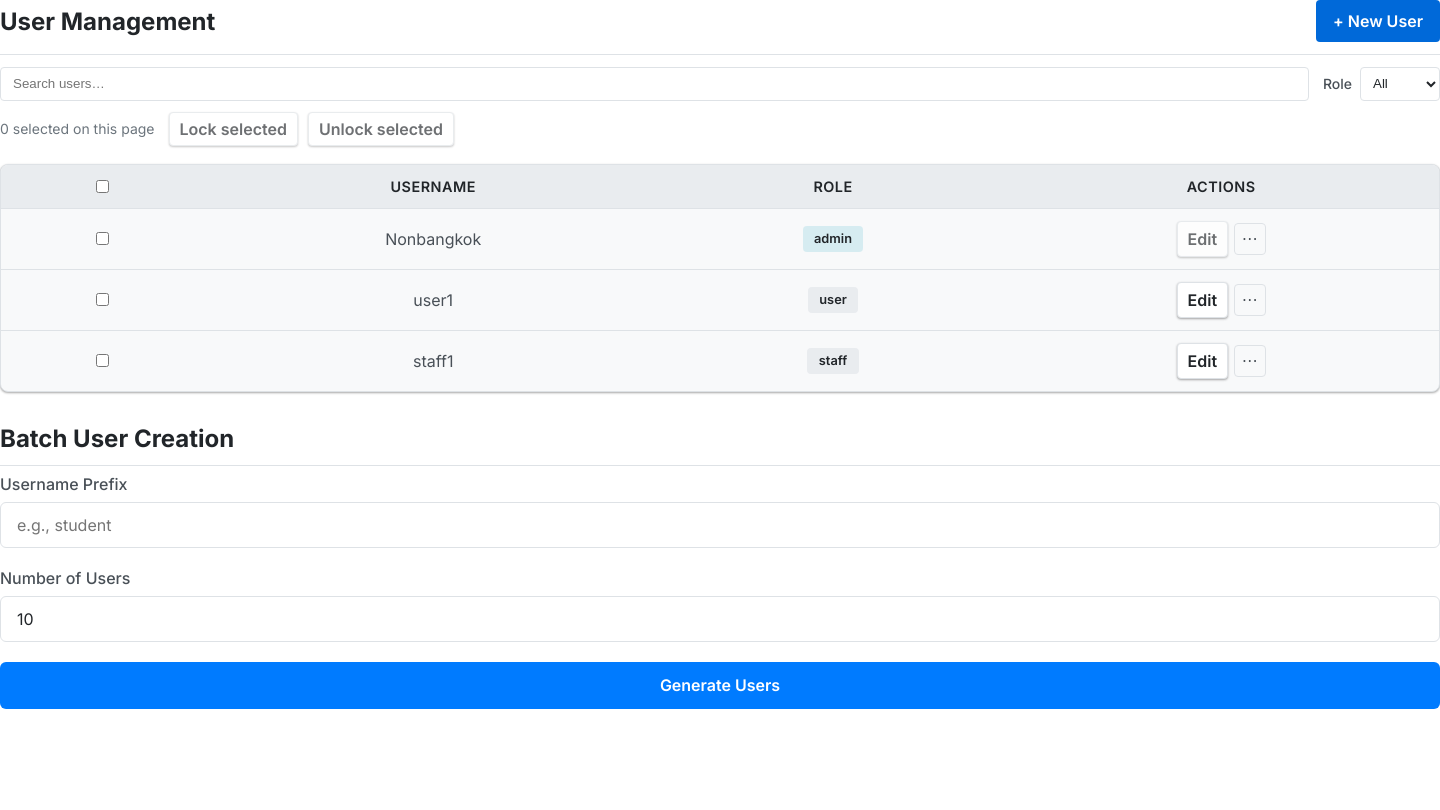
UserManagement Component › selects displayed rows, confirms one bulk request, and reports skipped accounts
expect the text "user1" is shown: met, box [204, 269, 663, 330]
Click the checkbox named "select displayed users" at x=103, y=186, box [96, 180, 109, 193]
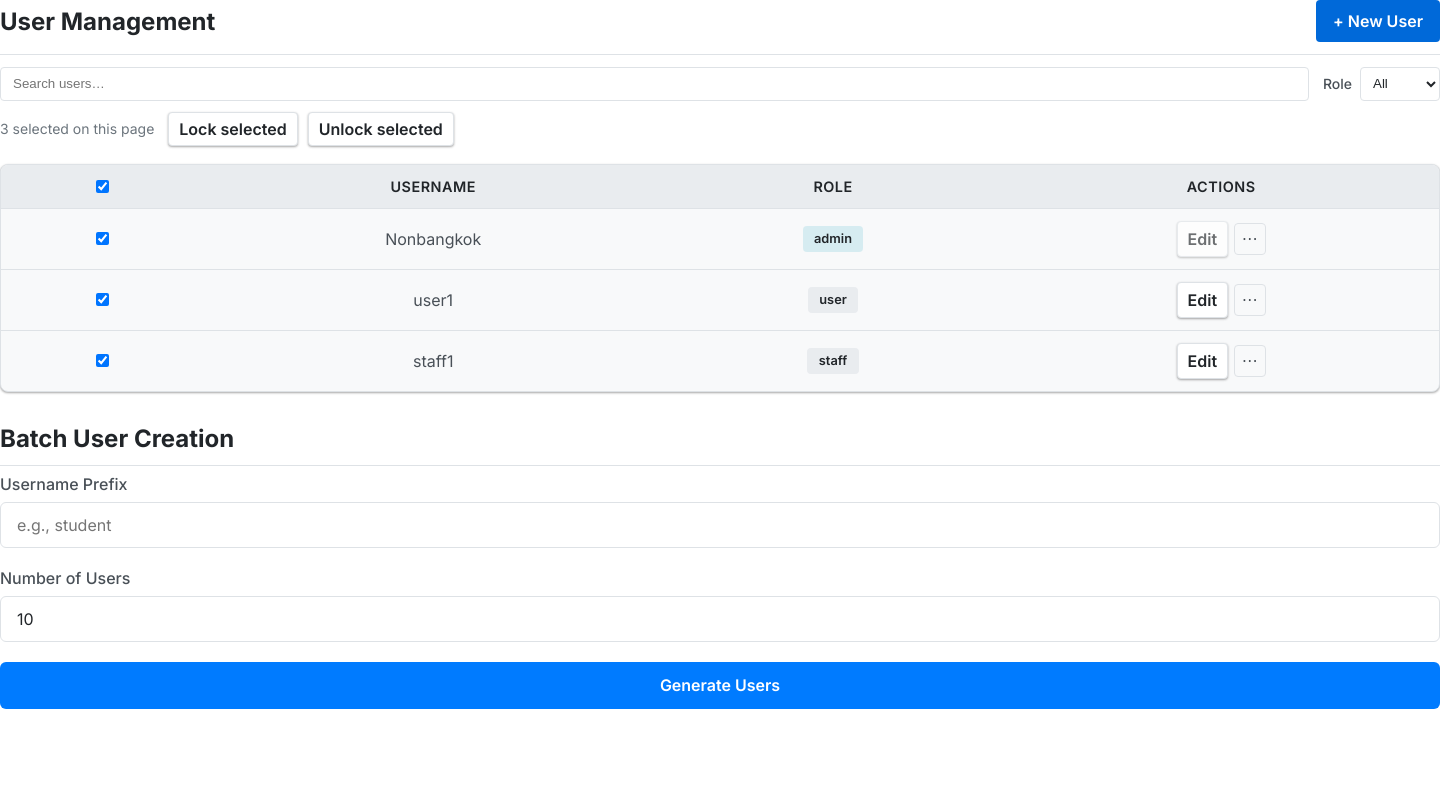
expect the checkbox named "select user1" is checked: met, box [96, 293, 109, 306]
expect the checkbox named "select staff1" is checked: met, box [96, 354, 109, 367]
Click the button "Lock selected" at x=233, y=129, box [168, 112, 298, 146]
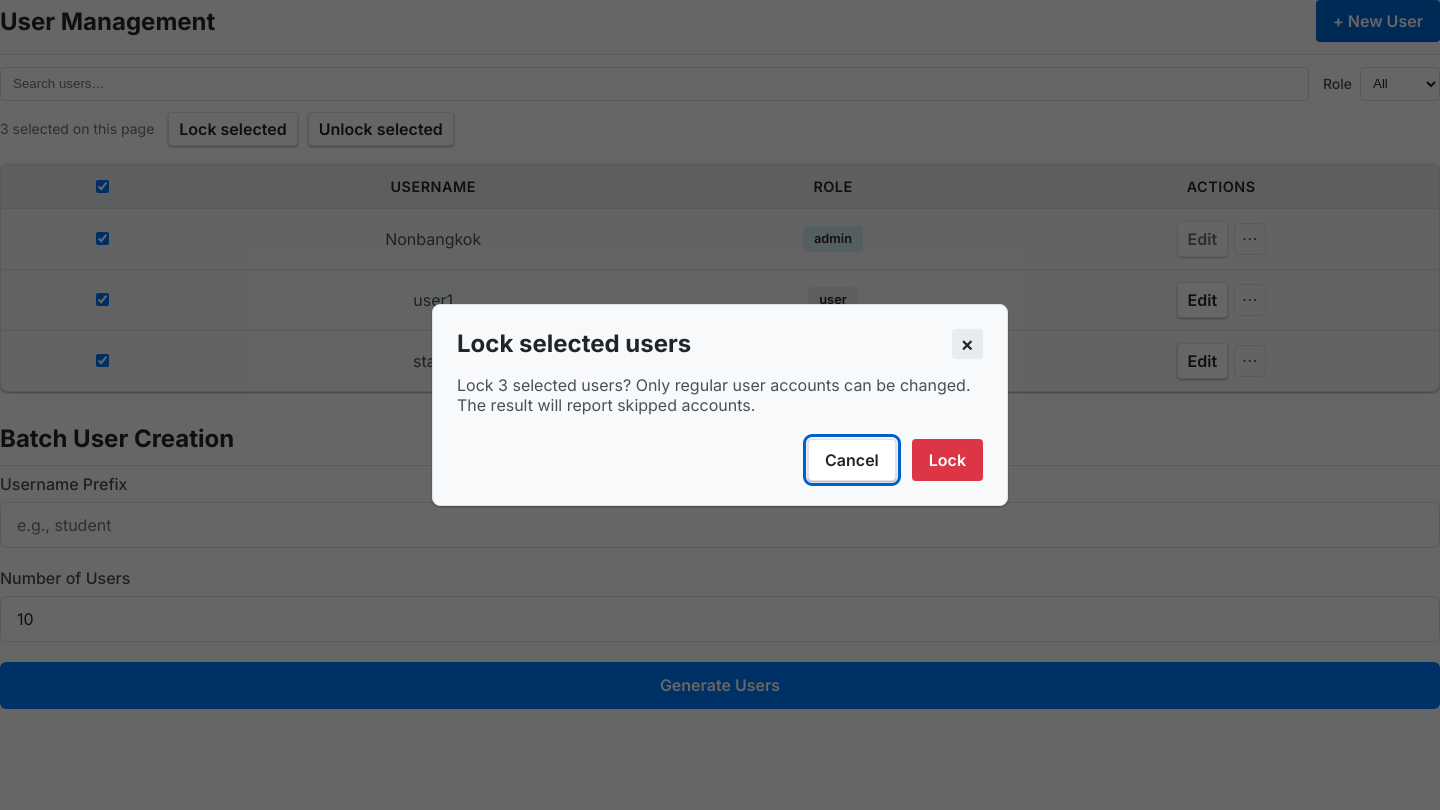
expect the text "Lock 3 selected users" is shown: met, box [457, 375, 970, 415]
Click the button "Lock" at x=947, y=460, box [912, 439, 983, 481]
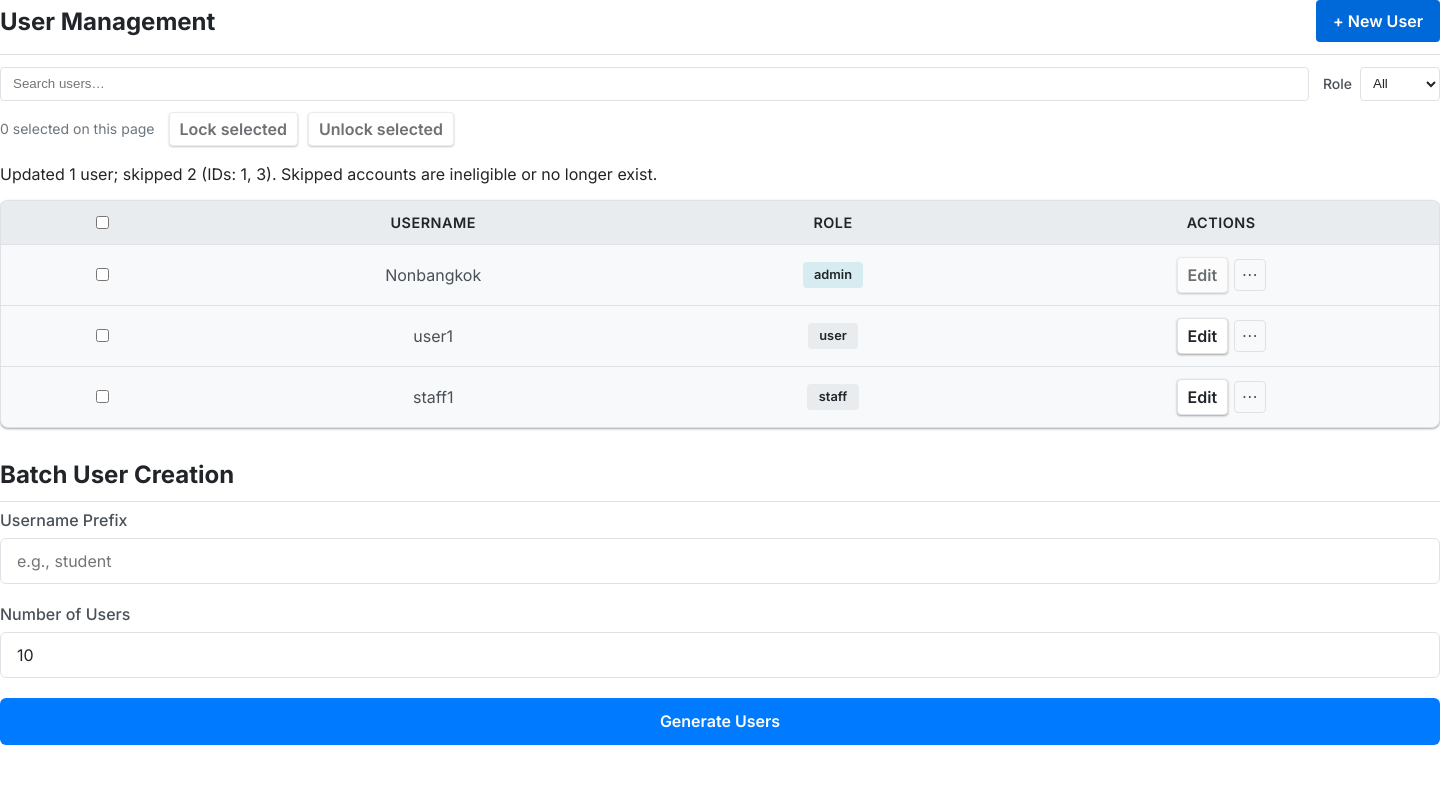
expect the checkbox named "select user1" is not checked: met, box [96, 329, 109, 342]
